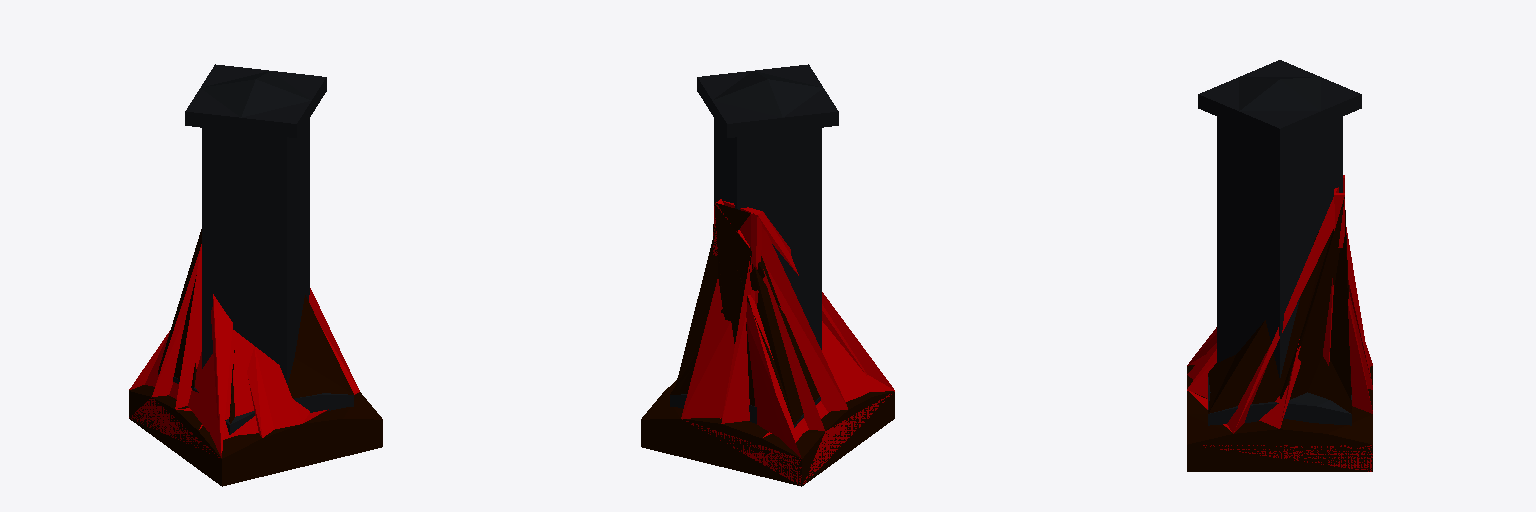
Rendered from waypoint.obj.
The picture shows the model from 3 angles: view 1: azimuth 30°, elevation 25°; view 2: azimuth 150°, elevation 25°; view 3: azimuth 270°, elevation 25°; orthographic projection.
Parts seen in each view (by area): view 1: waypoint_n, waypoint_s; view 2: waypoint_n, waypoint_s; view 3: waypoint_n, waypoint_s.
Boxes of the visible parts, <box> form: waypoint_n: <box>129,64,382,486</box>; waypoint_s: <box>129,229,359,457</box>; waypoint_n: <box>641,64,894,486</box>; waypoint_s: <box>670,201,894,484</box>; waypoint_n: <box>1187,60,1372,471</box>; waypoint_s: <box>1187,175,1372,471</box>.
Size of the model in its own units: 1 by 2.09 by 1.